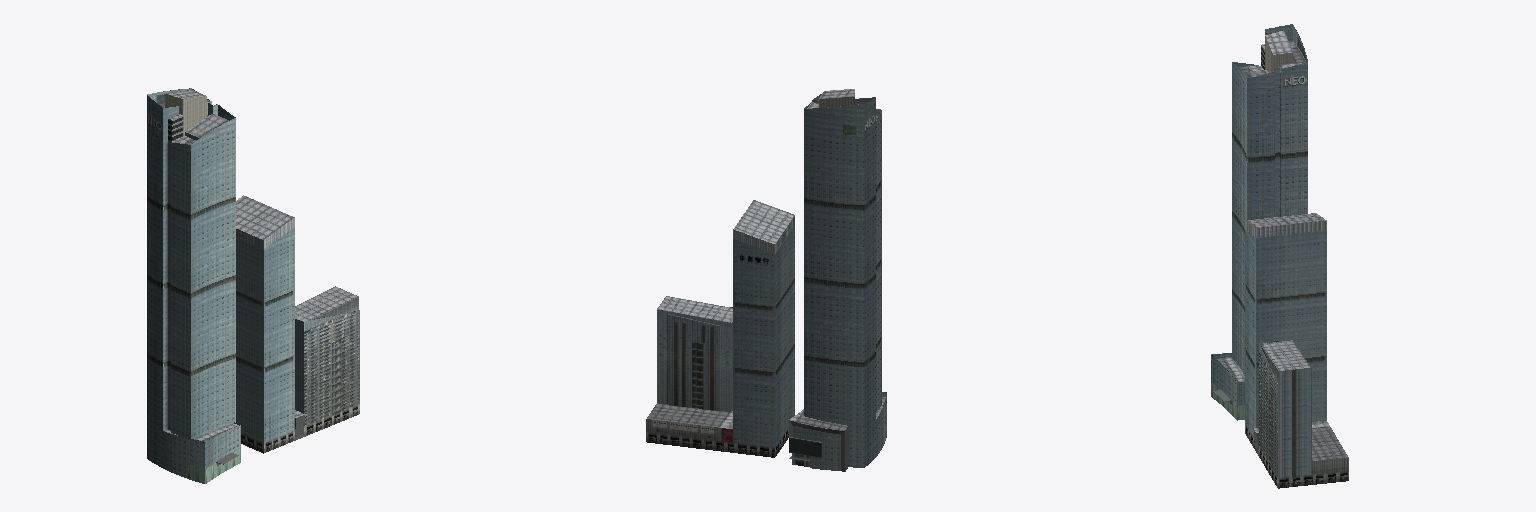
The picture shows the model from 3 angles: view 1: azimuth 30°, elevation 25°; view 2: azimuth 150°, elevation 25°; view 3: azimuth 270°, elevation 25°; orthographic projection.
Parts seen in each view (by area): view 1: Material__469; view 2: Material__469; view 3: Material__469.
Boxes of the visible parts, box(x1,y1,x2,y2) form: Material__469: box(147, 88, 359, 483); Material__469: box(646, 89, 886, 471); Material__469: box(1211, 24, 1348, 488).
Bounding box in the file's own units: 167 × 284 × 97.14.
1 materials, 1 textured.